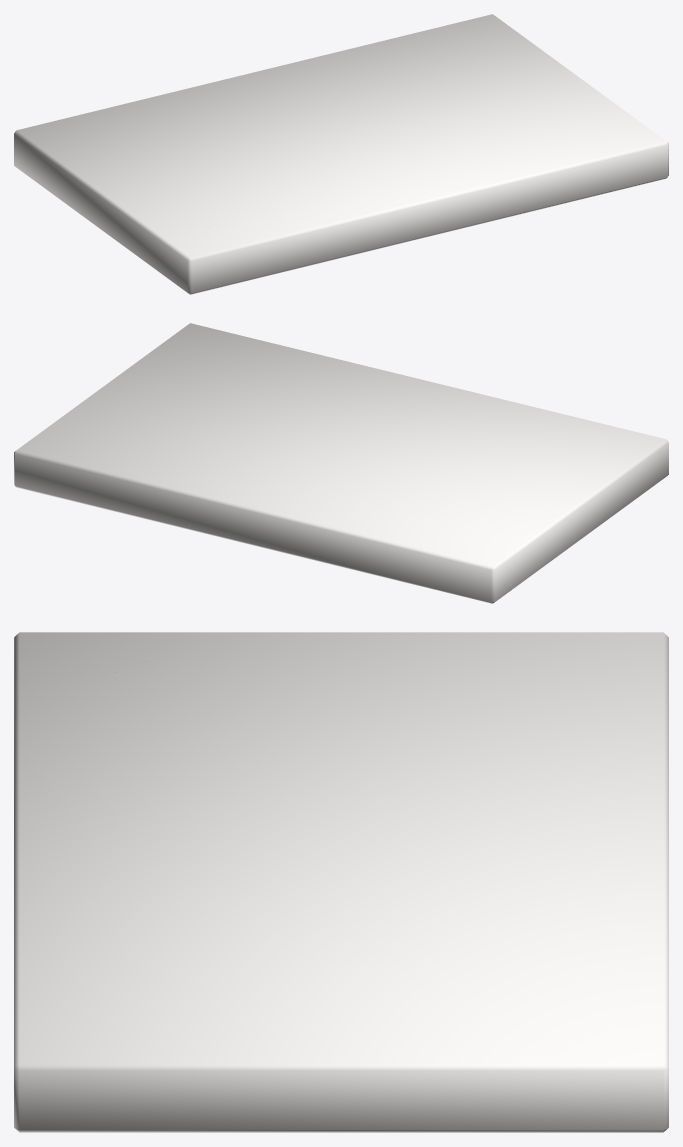
File: Bed_Matt.fbx
3 views of the same model, one above another, from view 1: azimuth 30°, elevation 25°; view 2: azimuth 150°, elevation 25°; view 3: azimuth 270°, elevation 25° (orthographic). The views are drawn at different scales.
Parts seen in each view (by area): view 1: Bed_Matt; view 2: Bed_Matt; view 3: Bed_Matt.
Boxes of the visible parts, x1,y1,x2,y2 form: Bed_Matt: [14, 14, 668, 294]; Bed_Matt: [14, 323, 668, 603]; Bed_Matt: [14, 632, 668, 1132].
Bounding box in the file's own units: 196 × 14.64 × 125.
